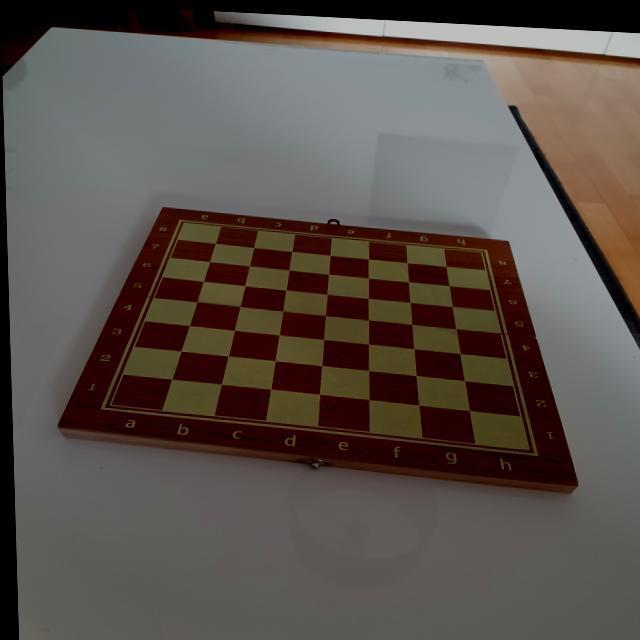chess-table-corners: (89, 396, 120, 418), (518, 436, 546, 456), (471, 236, 494, 254), (170, 212, 193, 228)
